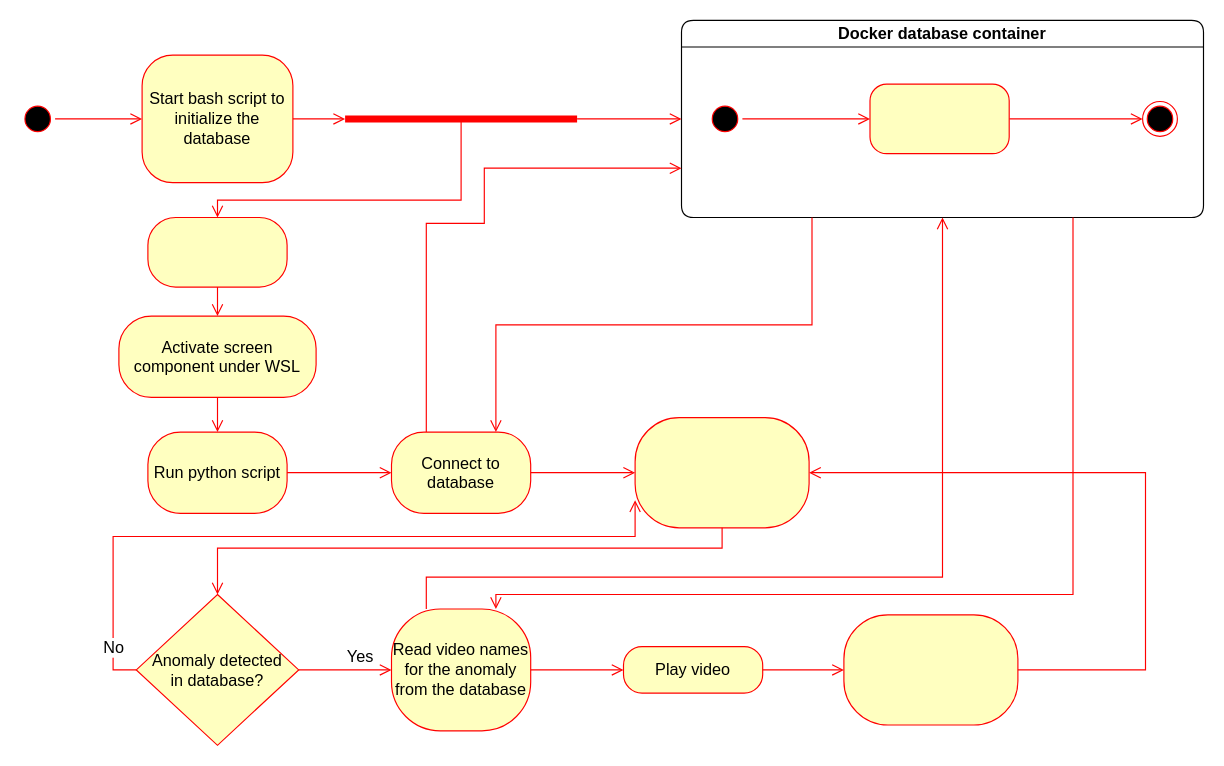
Image size: 1224x766. Some labels were removed from this diagram. Each missing label, with the centre of its shape:
Exclude image strips from training if the anomaly is a true positive: point 930,669
Initialize database: point 939,118
Start Feeback loop script: point 217,251
Use the user interface to inspect the images: point 721,472
